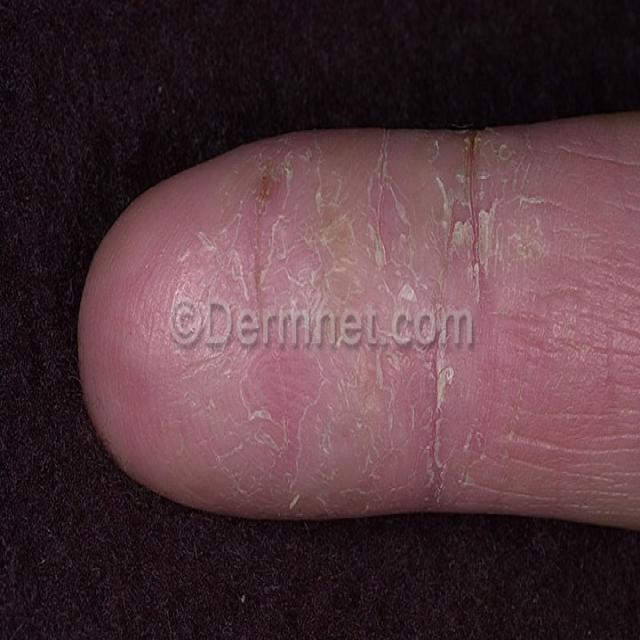Eczema: (139, 134, 527, 520)
